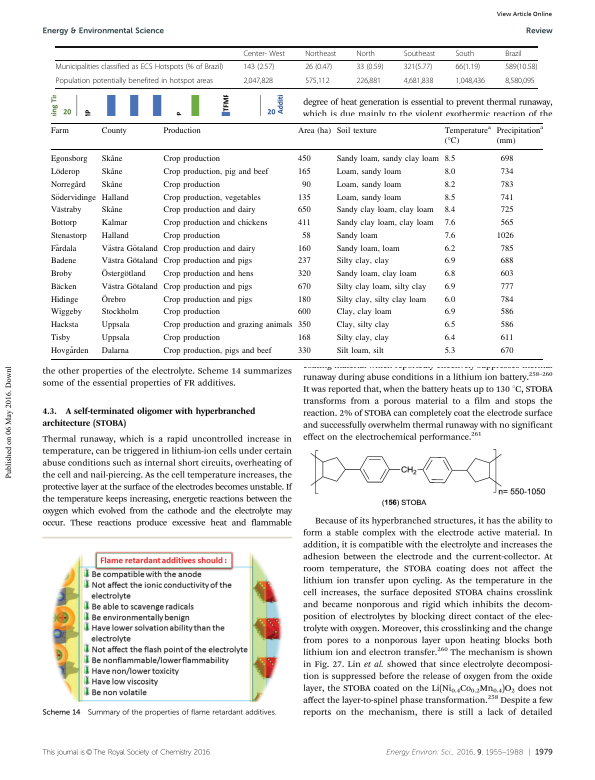borderless: (50, 121, 543, 359), (55, 45, 538, 88)
cell: (55, 62, 224, 72), (55, 76, 214, 86), (162, 320, 293, 330), (162, 346, 272, 356), (443, 124, 492, 146), (495, 124, 544, 146), (162, 167, 269, 177), (162, 218, 268, 228), (335, 155, 440, 165), (162, 193, 261, 203), (335, 206, 434, 216), (335, 218, 434, 228), (162, 206, 256, 216), (162, 244, 256, 254), (162, 269, 254, 279), (335, 282, 427, 292), (335, 295, 427, 305), (162, 257, 253, 267), (162, 282, 253, 292), (162, 295, 253, 305), (335, 269, 417, 279), (335, 167, 402, 177), (335, 180, 402, 190), (335, 193, 402, 203), (335, 244, 400, 254), (162, 155, 221, 165), (162, 180, 221, 190), (162, 231, 221, 241), (162, 308, 221, 318), (162, 333, 221, 343), (100, 244, 158, 254), (100, 257, 158, 267), (100, 282, 158, 292), (335, 308, 392, 318), (335, 320, 390, 330), (335, 257, 389, 267), (335, 333, 389, 343), (100, 268, 146, 279), (335, 346, 384, 356), (50, 193, 97, 203), (335, 231, 378, 241), (335, 126, 377, 136), (242, 49, 286, 58), (162, 126, 201, 136), (100, 308, 139, 318), (50, 346, 89, 356), (50, 155, 88, 165), (50, 231, 87, 241), (50, 180, 86, 190), (297, 126, 332, 136), (504, 62, 538, 72), (242, 62, 275, 72), (50, 308, 83, 318), (242, 76, 274, 86), (454, 76, 486, 86), (504, 76, 536, 86), (50, 206, 82, 216), (100, 293, 126, 305), (403, 76, 434, 86), (403, 62, 433, 72), (50, 167, 80, 177), (100, 320, 130, 330), (100, 333, 130, 343), (304, 49, 337, 58), (403, 49, 436, 58), (304, 62, 333, 72), (355, 62, 384, 72), (100, 193, 129, 203), (100, 231, 129, 241), (50, 295, 79, 305), (50, 320, 79, 330), (100, 346, 129, 356), (100, 218, 128, 228), (454, 62, 481, 72), (355, 76, 382, 86), (100, 126, 127, 136), (50, 218, 77, 228), (50, 244, 77, 254), (50, 257, 77, 267), (50, 282, 77, 292), (304, 76, 330, 86), (100, 154, 123, 165), (100, 205, 123, 216), (100, 167, 123, 177), (100, 180, 123, 190), (50, 269, 73, 279), (50, 333, 71, 343), (49, 126, 69, 136), (495, 231, 514, 241), (355, 49, 376, 58), (454, 49, 475, 58), (504, 49, 523, 58), (499, 155, 514, 165), (499, 167, 514, 177), (499, 180, 514, 190), (499, 193, 514, 203), (499, 206, 514, 216), (499, 218, 514, 228), (499, 244, 514, 254), (499, 257, 514, 267), (499, 269, 514, 279), (499, 282, 514, 292), (499, 295, 514, 305), (499, 308, 514, 318), (499, 320, 514, 330), (499, 333, 514, 343), (499, 346, 514, 356), (297, 155, 311, 165), (297, 167, 311, 177), (297, 193, 311, 203), (297, 206, 311, 216), (297, 218, 311, 228), (297, 244, 311, 254), (297, 257, 311, 267), (297, 269, 311, 279), (297, 282, 311, 292), (297, 295, 311, 305), (297, 308, 311, 318), (297, 320, 311, 330), (297, 333, 311, 343), (297, 346, 311, 356), (443, 155, 456, 165), (443, 167, 456, 177), (443, 180, 456, 190), (443, 193, 456, 203), (443, 206, 456, 216), (443, 218, 456, 228), (443, 231, 456, 241), (443, 244, 456, 254), (443, 257, 456, 267), (443, 269, 456, 279), (443, 282, 456, 292), (443, 295, 456, 305), (443, 308, 456, 318), (443, 320, 456, 330), (443, 333, 456, 343), (443, 346, 456, 356), (301, 180, 311, 190), (301, 231, 311, 241)
